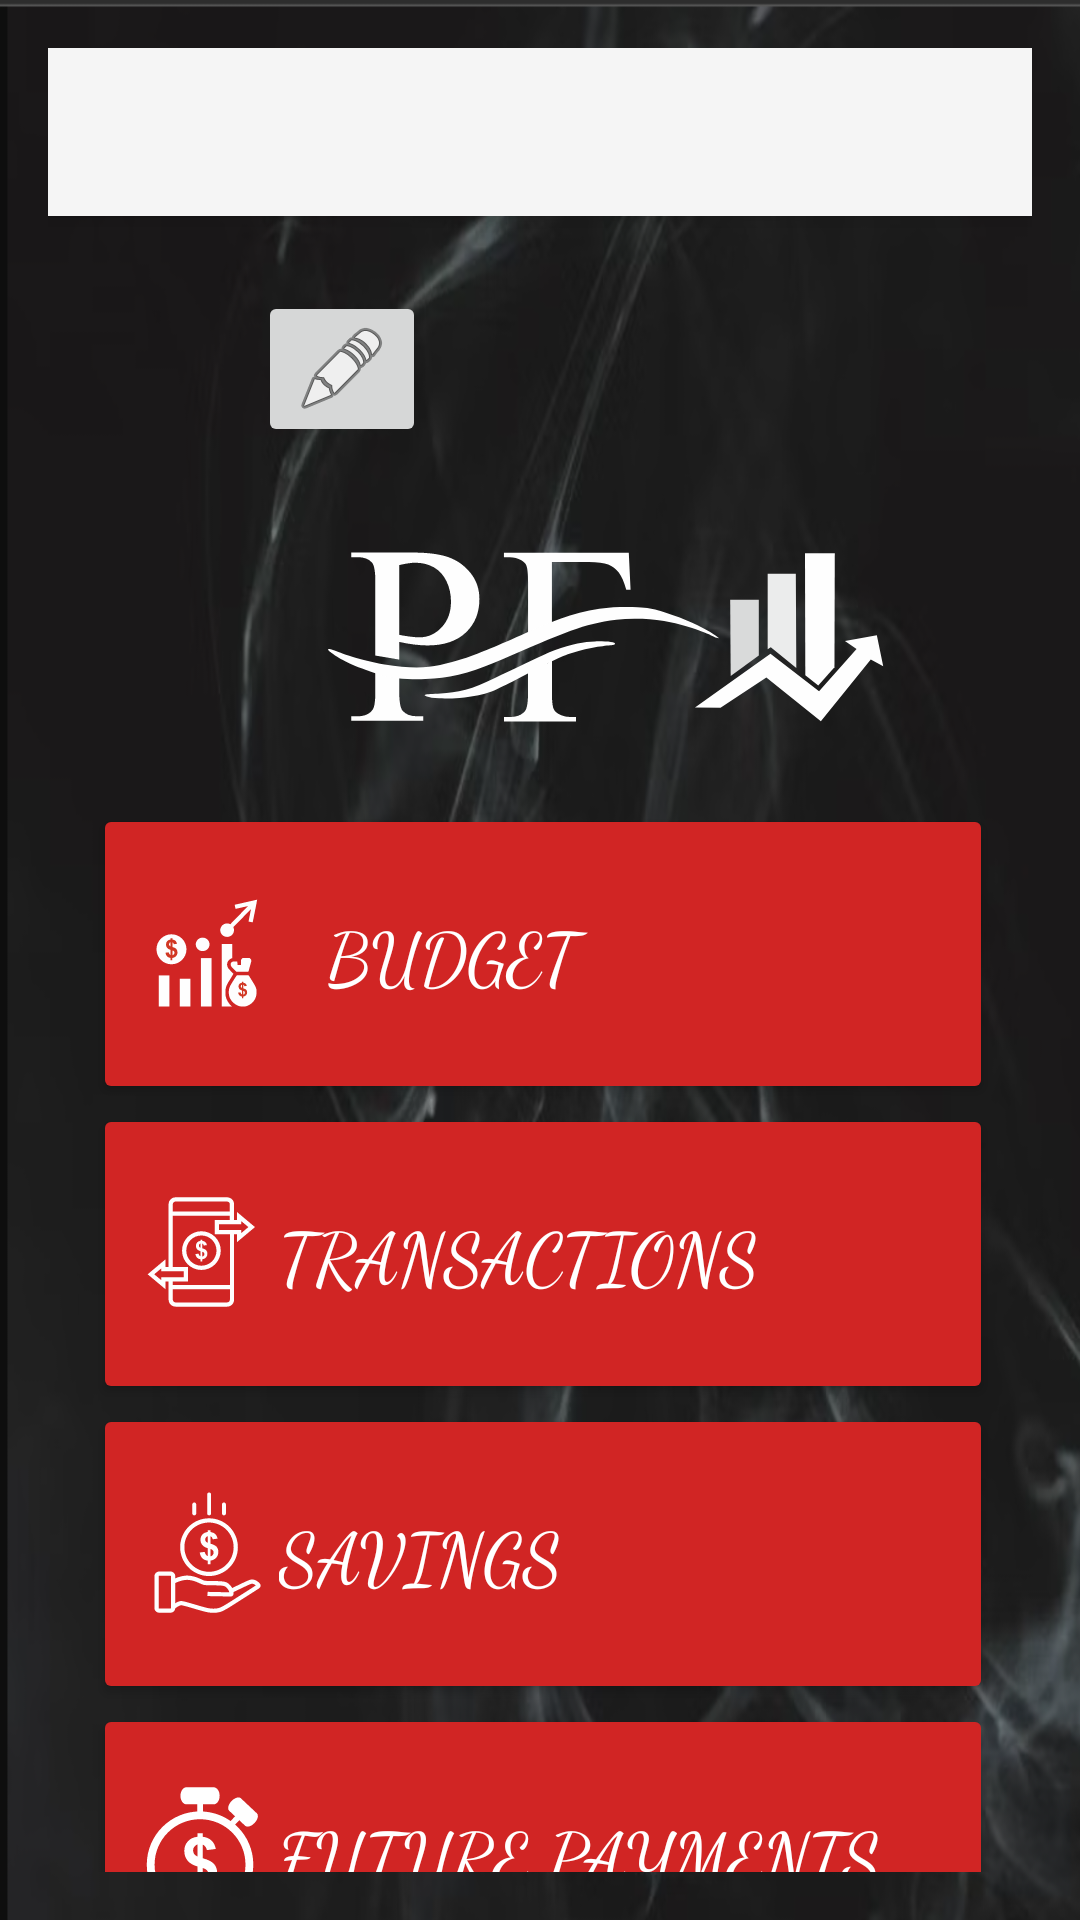

Icon bounding boxes for this 1080x1920 phone screenshot, format (x1, y1, x2, y2):
Edit user name: (270, 291, 426, 447)
